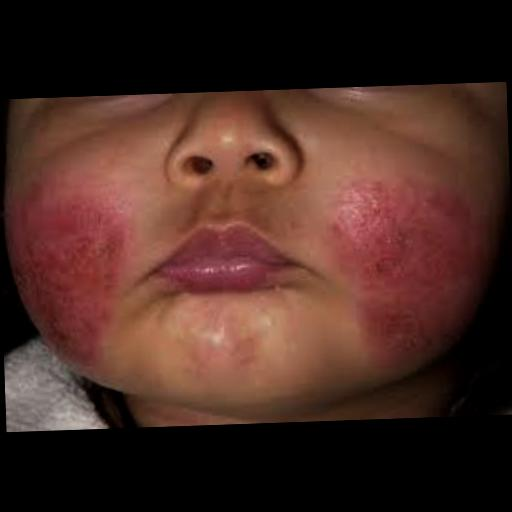Skin_Lesion: (6, 203, 127, 332), (348, 185, 459, 299)
